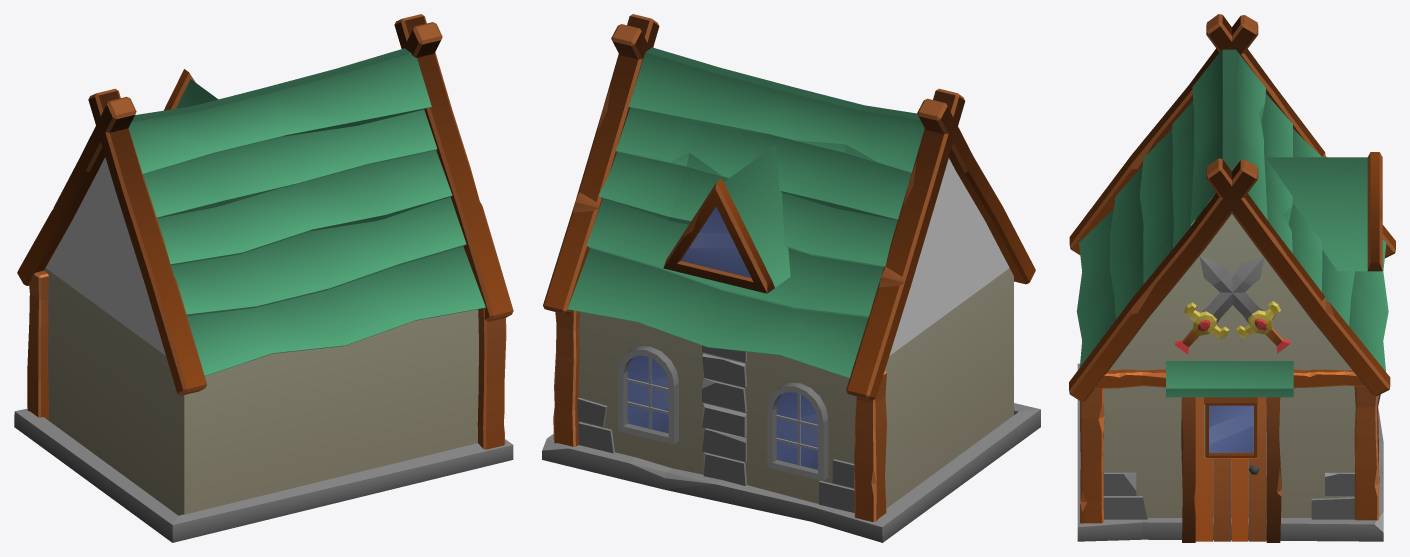
File: weapon_shop.fbx
3 views of the same model, side by side, from view 1: azimuth 30°, elevation 25°; view 2: azimuth 150°, elevation 25°; view 3: azimuth 270°, elevation 25° (orthographic). The views are drawn at different scales.
Parts seen in each view (by area): view 1: Box025.075; view 2: Box025.075; view 3: Box025.075.
Part boxes in pixels (left/top/right/bottom): Box025.075: left=14, top=14, right=513, bottom=542; Box025.075: left=542, top=14, right=1040, bottom=542; Box025.075: left=1069, top=14, right=1395, bottom=542.
Size of the model in its own units: 7.35 by 7.71 by 6.13.
